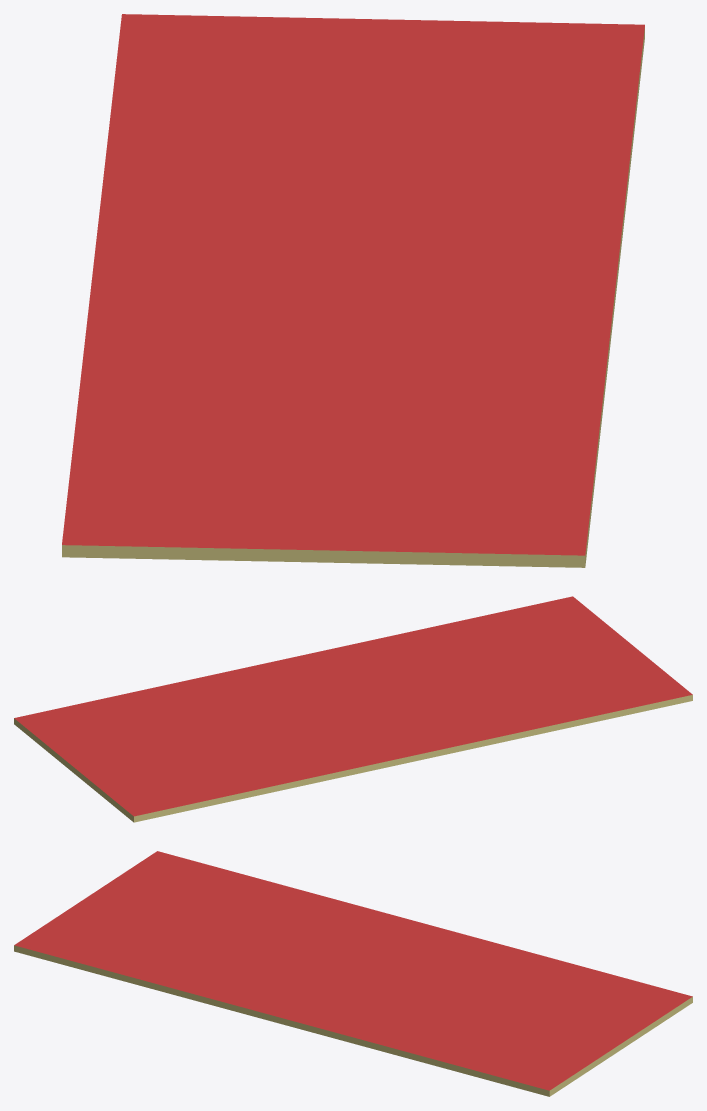
3 views of the same model, one above another, from view 1: azimuth 30°, elevation 25°; view 2: azimuth 150°, elevation 25°; view 3: azimuth 270°, elevation 25° (orthographic). The views are drawn at different scales.
Parts seen in each view (by area): view 1: group_3, group_4; view 2: group_3, group_4; view 3: group_3, group_4.
Boxes of the visible parts, x1,y1,x2,y2 form: group_3: (62,14,644,555); group_4: (62,27,644,567); group_3: (14,596,692,816); group_4: (14,695,692,822); group_3: (14,851,692,1090); group_4: (14,945,692,1096).
Bounding box in the file's own units: 8.3 × 9.93 × 0.1.
